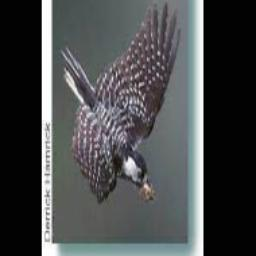Woodpecker: (62, 0, 186, 213)
